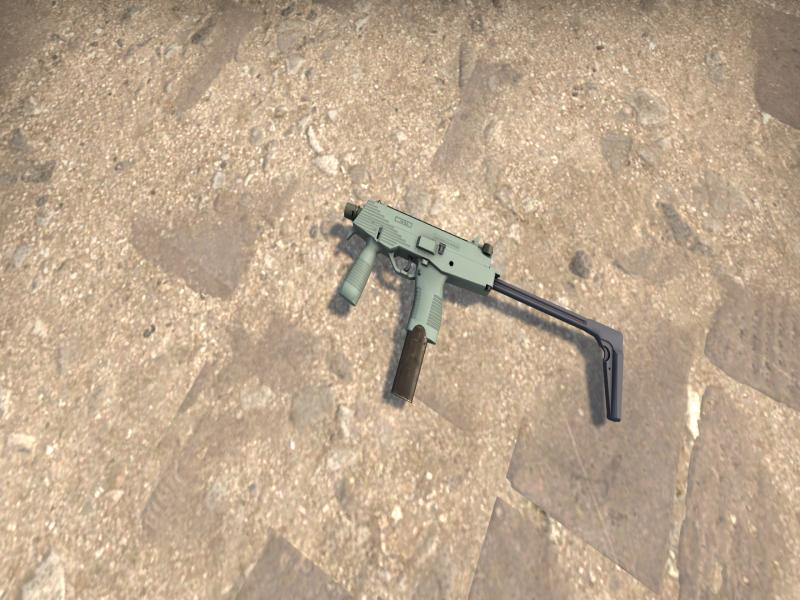MP9: (340, 198, 625, 422)
